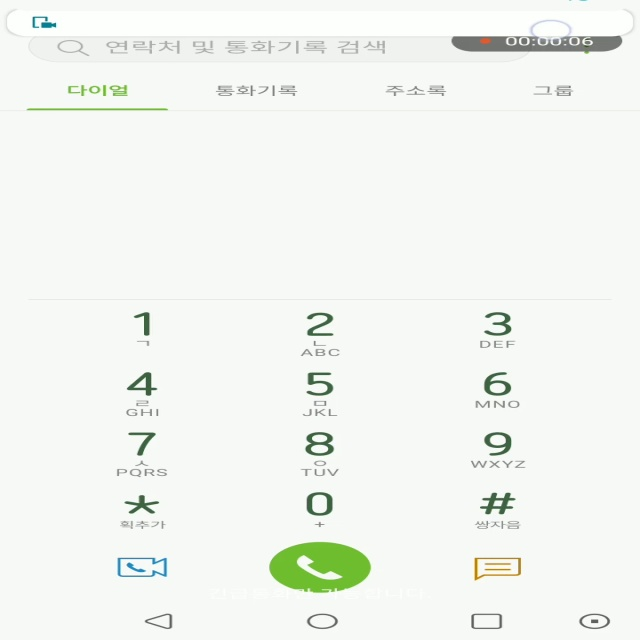Cursor: (528, 19, 573, 41)
